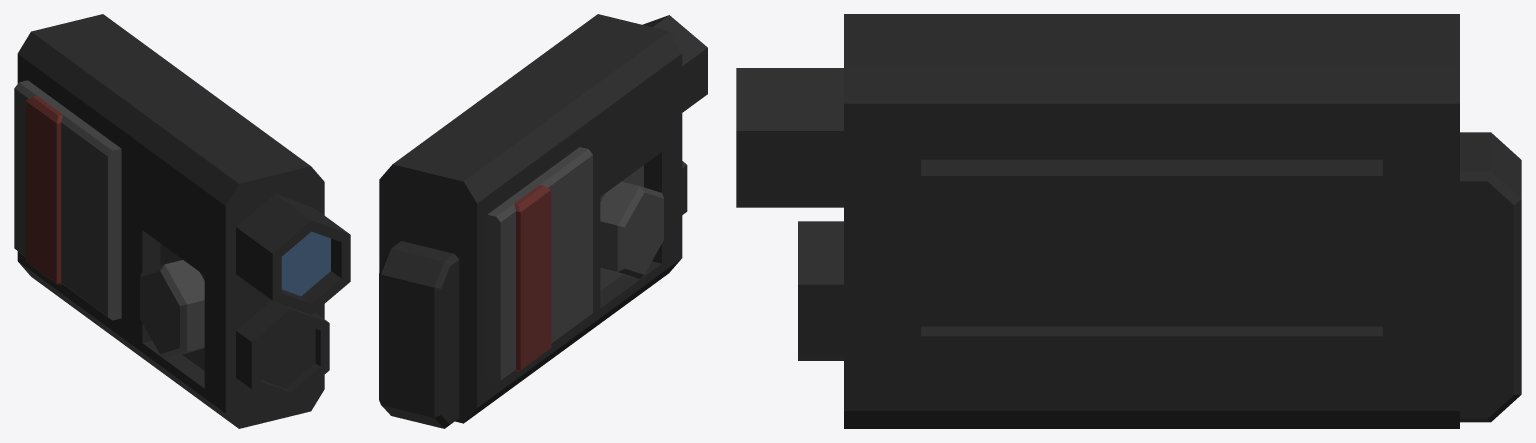
Rendered from Laser_A_Right.fbx.
3 views of the same model, side by side, from view 1: azimuth 30°, elevation 25°; view 2: azimuth 150°, elevation 25°; view 3: azimuth 270°, elevation 25° (orthographic). The views are drawn at different scales.
Parts seen in each view (by area): view 1: Laser_A_Right; view 2: Laser_A_Right; view 3: Laser_A_Right.
Part boxes in pixels (x1,y1,x2,y2): Laser_A_Right: [14, 14, 350, 428]; Laser_A_Right: [379, 14, 707, 428]; Laser_A_Right: [736, 14, 1521, 428].
Size of the model in its own units: 0.0387 by 0.065 by 0.1275.
